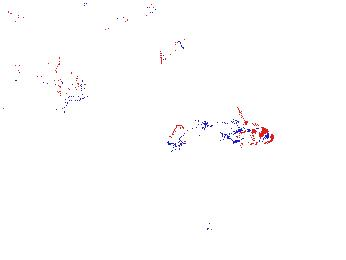X-ray fish: (28, 51, 93, 109)
redtail glassfish: (4, 8, 105, 40), (71, 1, 160, 19), (157, 32, 188, 67)
